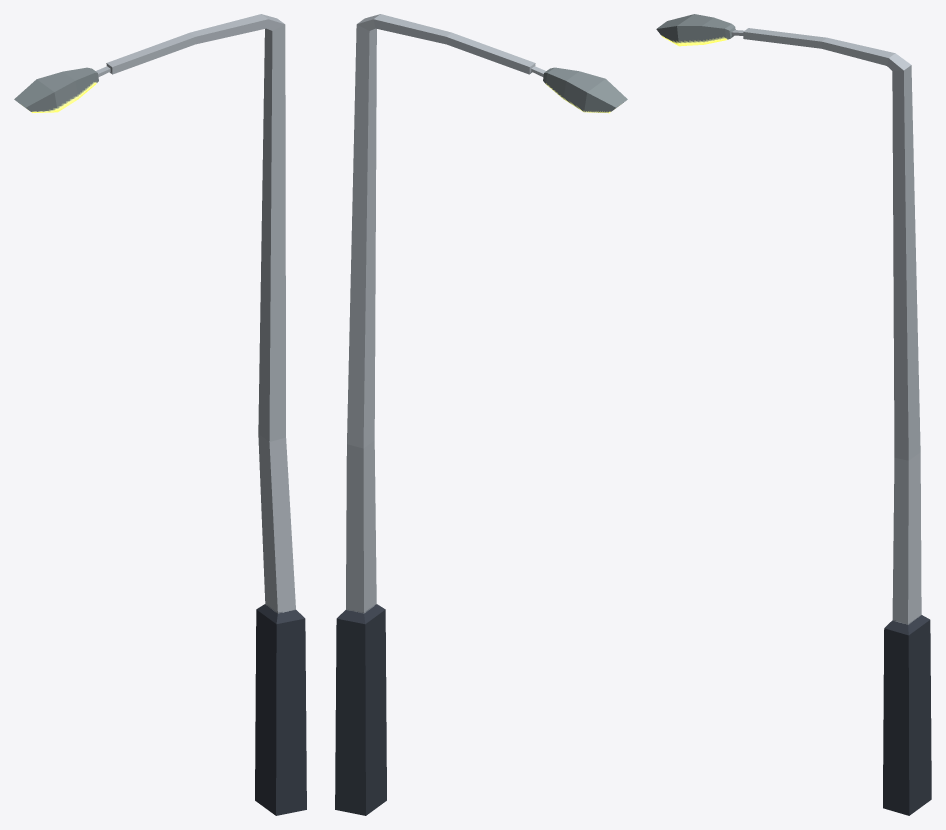
File: lampu jalan.fbx
3 views of the same model, side by side, from view 1: azimuth 30°, elevation 25°; view 2: azimuth 150°, elevation 25°; view 3: azimuth 330°, elevation 25° (orthographic). The views are drawn at different scales.
Parts seen in each view (by area): view 1: street_lamp; view 2: street_lamp; view 3: street_lamp.
Boxes of the visible parts, x1,y1,x2,y2 form: street_lamp: (14, 14, 306, 815); street_lamp: (335, 14, 627, 815); street_lamp: (656, 14, 931, 815).
Bounding box in the file's own units: 351 × 964 × 52.85.
